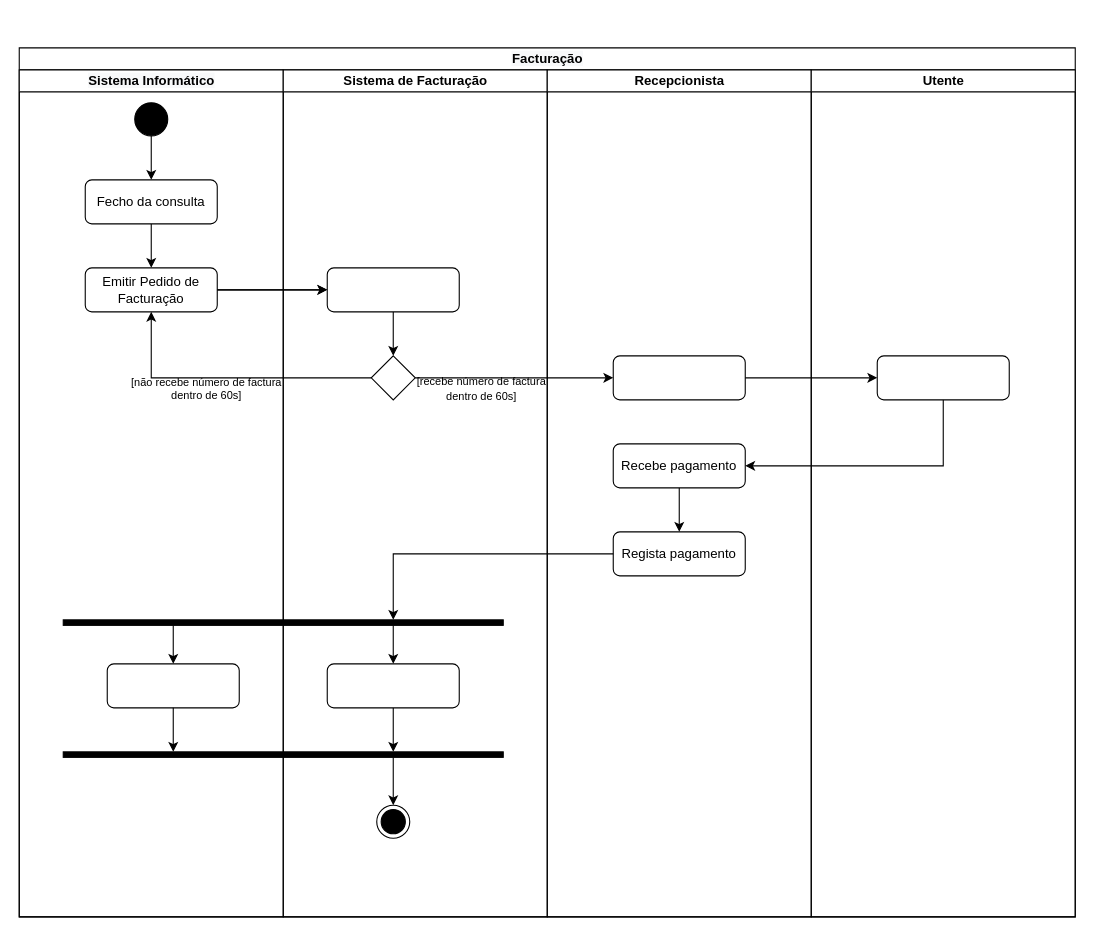
This 1095x936 diagram has some shape labels left out. Each missing label, with the centre of its shape:
Actualiza estado da consulta para pago: the point at 172,685
Apresentar valor a pagar: the point at 678,377
Emitir factura: the point at 392,685
Emitir número da factura: the point at 392,289
Pagar consulta: the point at 942,377
